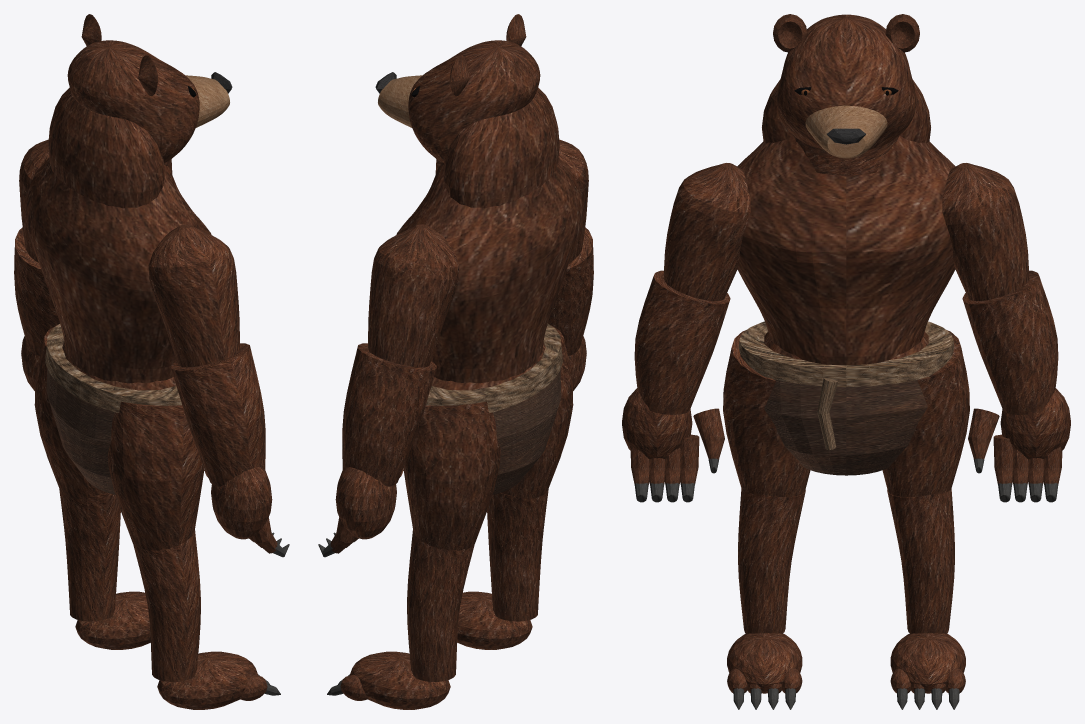
The model's file is ucumar.obj.
The picture shows the model from 3 angles, left to right: view 1: azimuth 30°, elevation 25°; view 2: azimuth 150°, elevation 25°; view 3: azimuth 270°, elevation 25°; orthographic projection.
Parts seen in each view (by area): view 1: torso_fur, right_thigh_fur, right_upper_fur, head_fur, right_fore_fur, right_shin_fur, left_shin_fur, pelvis_cloth, right_foot_fur, right_hand_fur, pelvis_rope, left_fore_fur (+6 smaller); view 2: torso_fur, left_thigh_fur, left_upper_fur, head_fur, left_fore_fur, left_shin_fur, right_shin_fur, pelvis_cloth, left_foot_fur, left_hand_fur, pelvis_rope, right_fore_fur (+6 smaller); view 3: torso_fur, head_fur, pelvis_cloth, right_upper_fur, left_upper_fur, right_fore_fur, left_fore_fur, left_shin_fur, right_shin_fur, left_thigh_fur, right_thigh_fur, pelvis_rope (+9 smaller).
Part boxes in pixels (bbox=[...]): torso_fur: bbox=[25, 87, 211, 383]; right_thigh_fur: bbox=[107, 401, 204, 550]; right_upper_fur: bbox=[148, 224, 239, 367]; head_fur: bbox=[67, 14, 199, 173]; right_fore_fur: bbox=[171, 343, 265, 486]; right_shin_fur: bbox=[133, 530, 200, 681]; left_shin_fur: bbox=[59, 489, 120, 621]; pelvis_cloth: bbox=[46, 368, 115, 494]; right_foot_fur: bbox=[157, 651, 267, 709]; right_hand_fur: bbox=[204, 467, 277, 553]; pelvis_rope: bbox=[45, 323, 181, 412]; left_fore_fur: bbox=[14, 227, 59, 355]; torso_fur: bbox=[396, 87, 582, 383]; left_thigh_fur: bbox=[403, 401, 500, 550]; left_upper_fur: bbox=[368, 224, 459, 367]; head_fur: bbox=[408, 14, 540, 173]; left_fore_fur: bbox=[342, 343, 436, 486]; left_shin_fur: bbox=[407, 530, 474, 681]; right_shin_fur: bbox=[487, 489, 548, 621]; pelvis_cloth: bbox=[492, 369, 561, 494]; left_foot_fur: bbox=[340, 651, 450, 709]; left_hand_fur: bbox=[330, 467, 403, 553]; pelvis_rope: bbox=[426, 323, 562, 412]; right_fore_fur: bbox=[548, 227, 593, 355]; torso_fur: bbox=[737, 79, 955, 364]; head_fur: bbox=[773, 14, 919, 175]; pelvis_cloth: bbox=[764, 379, 927, 475]; right_upper_fur: bbox=[663, 163, 750, 301]; left_upper_fur: bbox=[942, 163, 1029, 301]; right_fore_fur: bbox=[634, 270, 730, 414]; left_fore_fur: bbox=[962, 270, 1058, 414]; left_shin_fur: bbox=[887, 488, 954, 633]; right_shin_fur: bbox=[738, 488, 805, 633]; left_thigh_fur: bbox=[882, 330, 969, 497]; right_thigh_fur: bbox=[723, 330, 810, 497]; pelvis_rope: bbox=[738, 321, 954, 450].
Size of the model in its own units: 28.06 by 100 by 62.77.
Materials: 2 (2 with a texture image).
